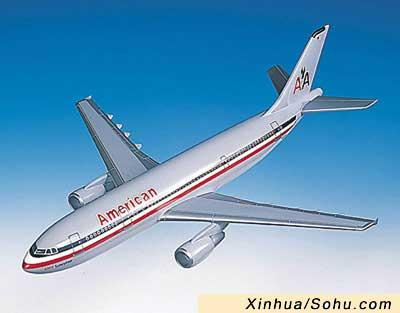airplane: (16, 22, 377, 280)
